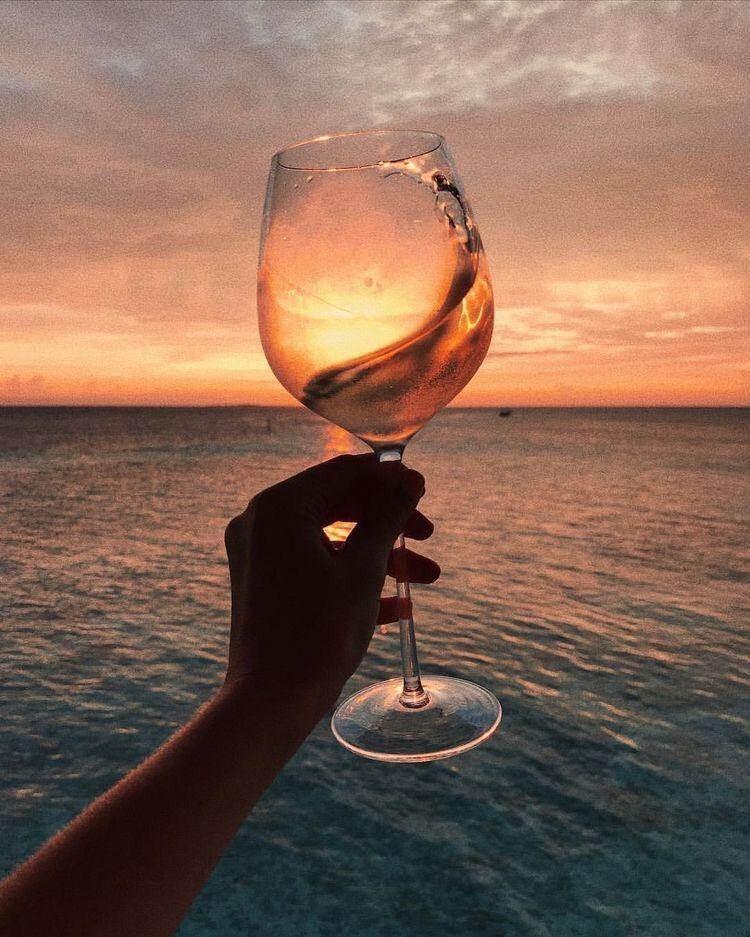glass-wine: (256, 125, 509, 762)
